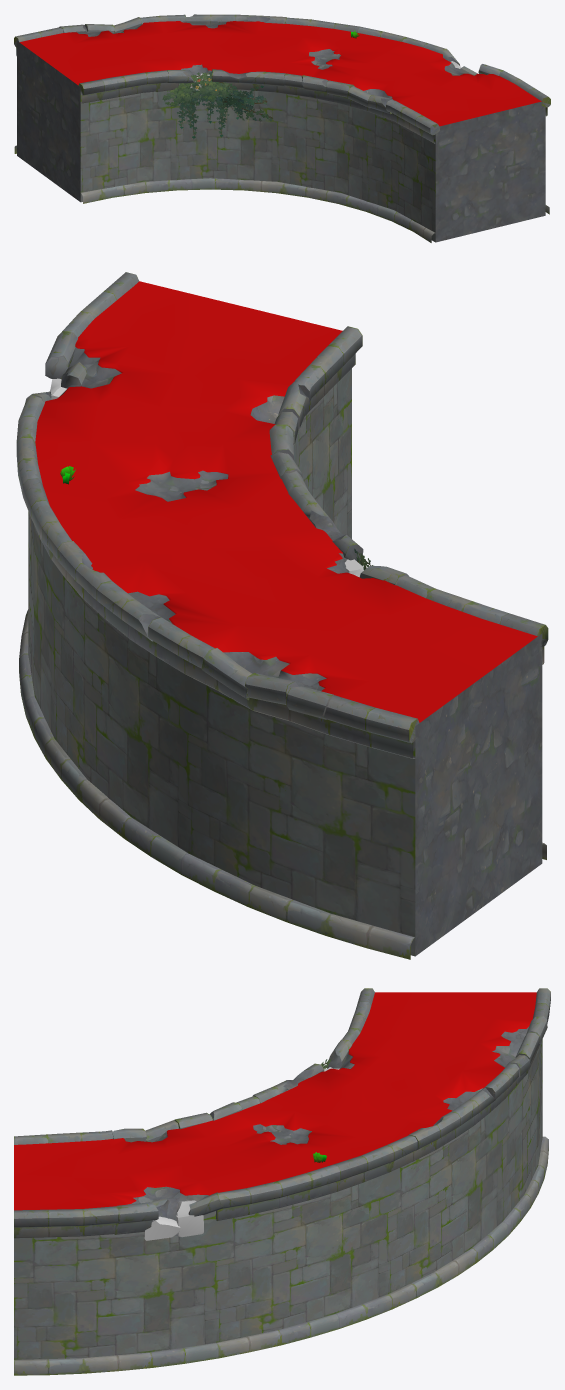
File: Area_MdBuild_SdPlatform07_Group.fbx
The picture shows the model from 3 angles, top to bottom: view 1: azimuth 30°, elevation 25°; view 2: azimuth 150°, elevation 25°; view 3: azimuth 270°, elevation 25°; orthographic projection. The views are drawn at different scales.
Parts seen in each view (by area): view 1: Area_MdBuild_SdPlatform07_Lod0, Stages_LYLvy08_Vo (1), Stages_LYLvy09_Vo (1); view 2: Area_MdBuild_SdPlatform07_Lod0; view 3: Area_MdBuild_SdPlatform07_Lod0.
Part boxes in pixels (x1,y1,x2,y2): Area_MdBuild_SdPlatform07_Lod0: (14, 14, 550, 242); Stages_LYLvy08_Vo (1): (162, 72, 238, 139); Stages_LYLvy09_Vo (1): (204, 73, 272, 121); Area_MdBuild_SdPlatform07_Lod0: (16, 272, 548, 959); Area_MdBuild_SdPlatform07_Lod0: (14, 988, 550, 1375).
Bounding box in the file's own units: 30.94 × 10.66 × 30.94.
